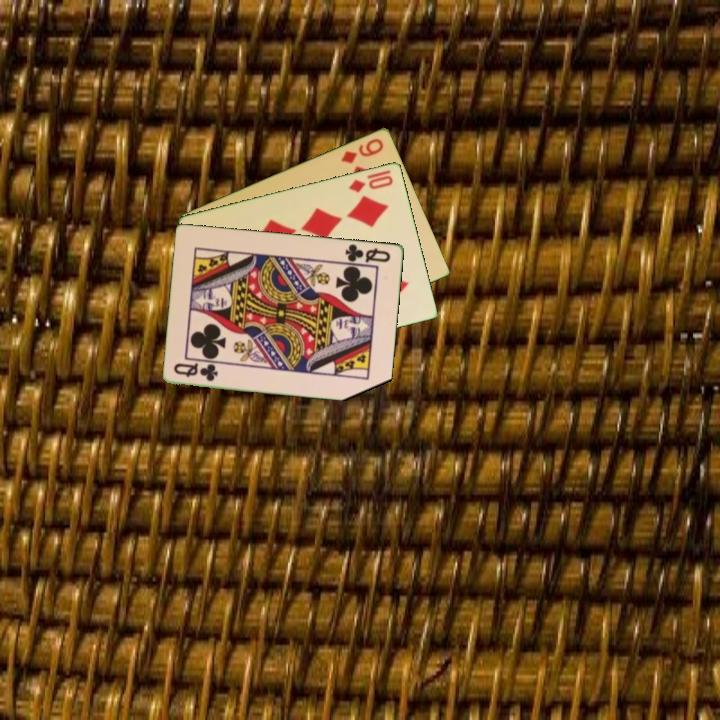10d: (345, 171, 396, 195)
9d: (337, 134, 386, 166)
Qc: (342, 240, 393, 265), (170, 359, 221, 384)
